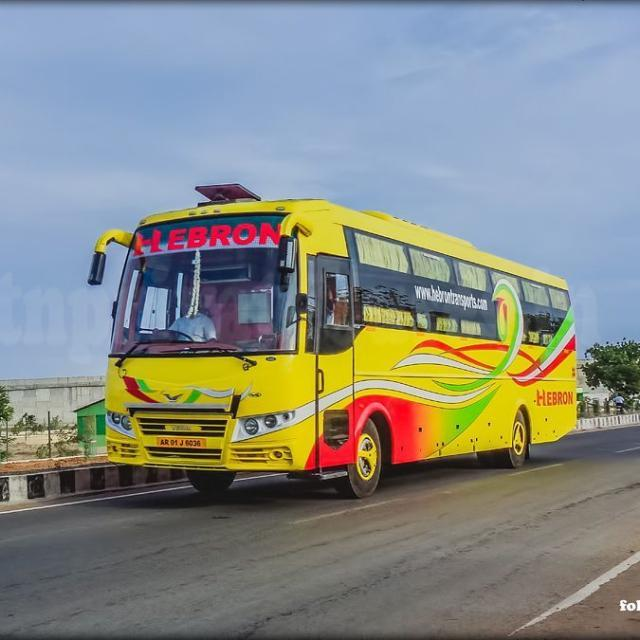Bus: (88, 180, 578, 500)
